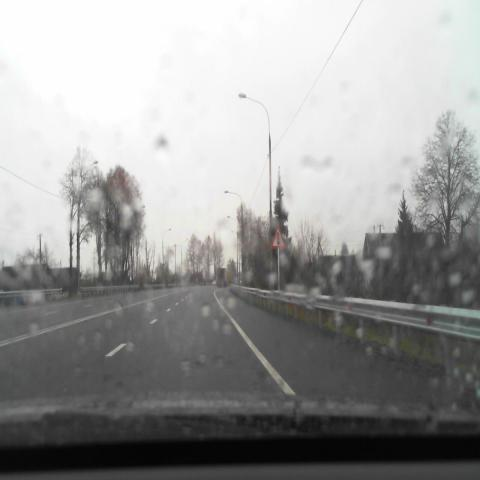1_8: (270, 223, 286, 248)
